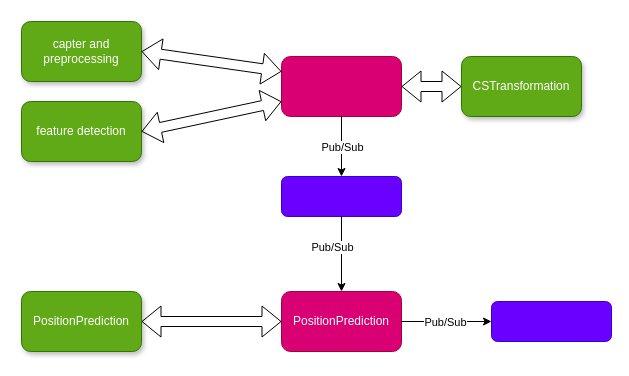
Image size: 629x376. Some labels were removed from this diagram. Here are the shapes that lost their labels. From the top down, the centre of each, then its label:
At [341,86]: "Vision".
At [341,196]: "/NimSortImgeData".
At [551,321]: "/NimSortPrediction".
